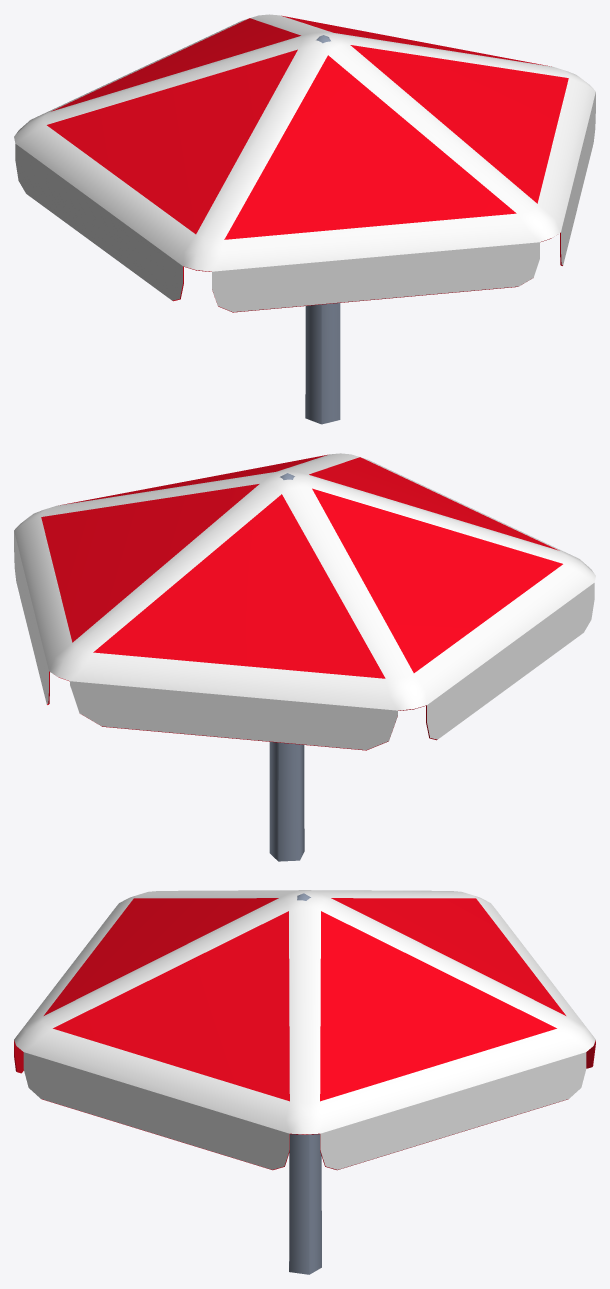
The model's file is SM_Umbrella8.fbx.
The picture shows the model from 3 angles, top to bottom: view 1: azimuth 30°, elevation 25°; view 2: azimuth 150°, elevation 25°; view 3: azimuth 270°, elevation 25°; orthographic projection.
Visible parts, largest first — view 1: SM_Umbrella8; view 2: SM_Umbrella8; view 3: SM_Umbrella8.
Part boxes in pixels (<box>): SM_Umbrella8: <box>14,14,595,424</box>; SM_Umbrella8: <box>14,453,595,861</box>; SM_Umbrella8: <box>14,890,595,1274</box>.
Size of the model in its own units: 707 by 526 by 741.
